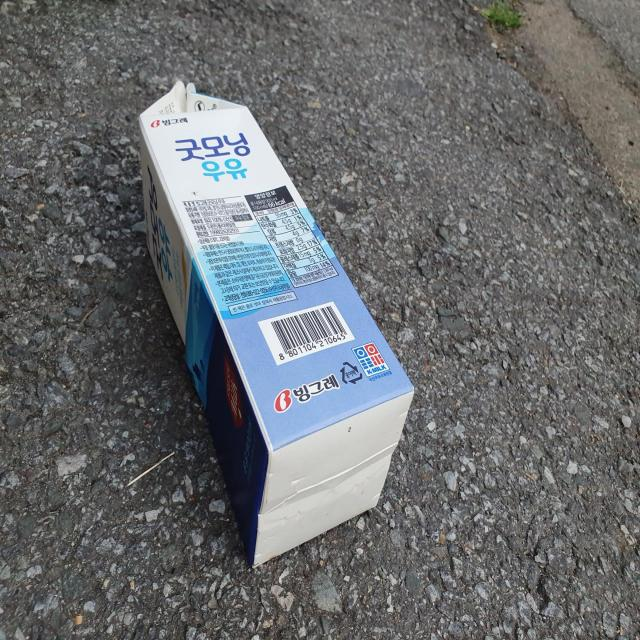paperpack: (139, 80, 414, 566)
